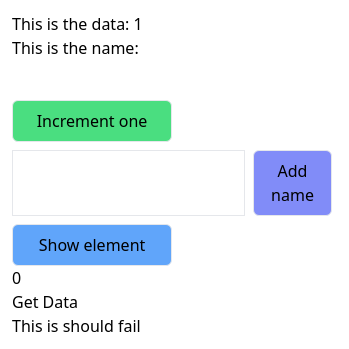
TestPinia.vue › check data
The width and height of the screenshot is (349, 349).
Click the button with test id "btn-increment" at (92,121), box [12,100,172,142]
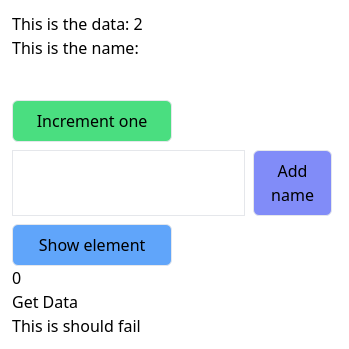
Click the button with test id "btn-increment" at (92,121), box [12,100,172,142]
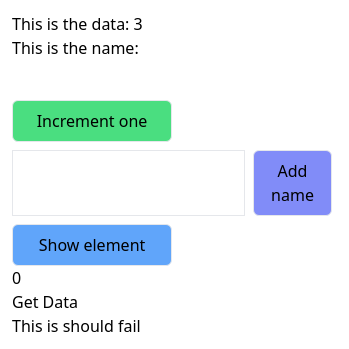
Now the text with test id "data" reads "This is the data: 3", box [12,13,143,35]
